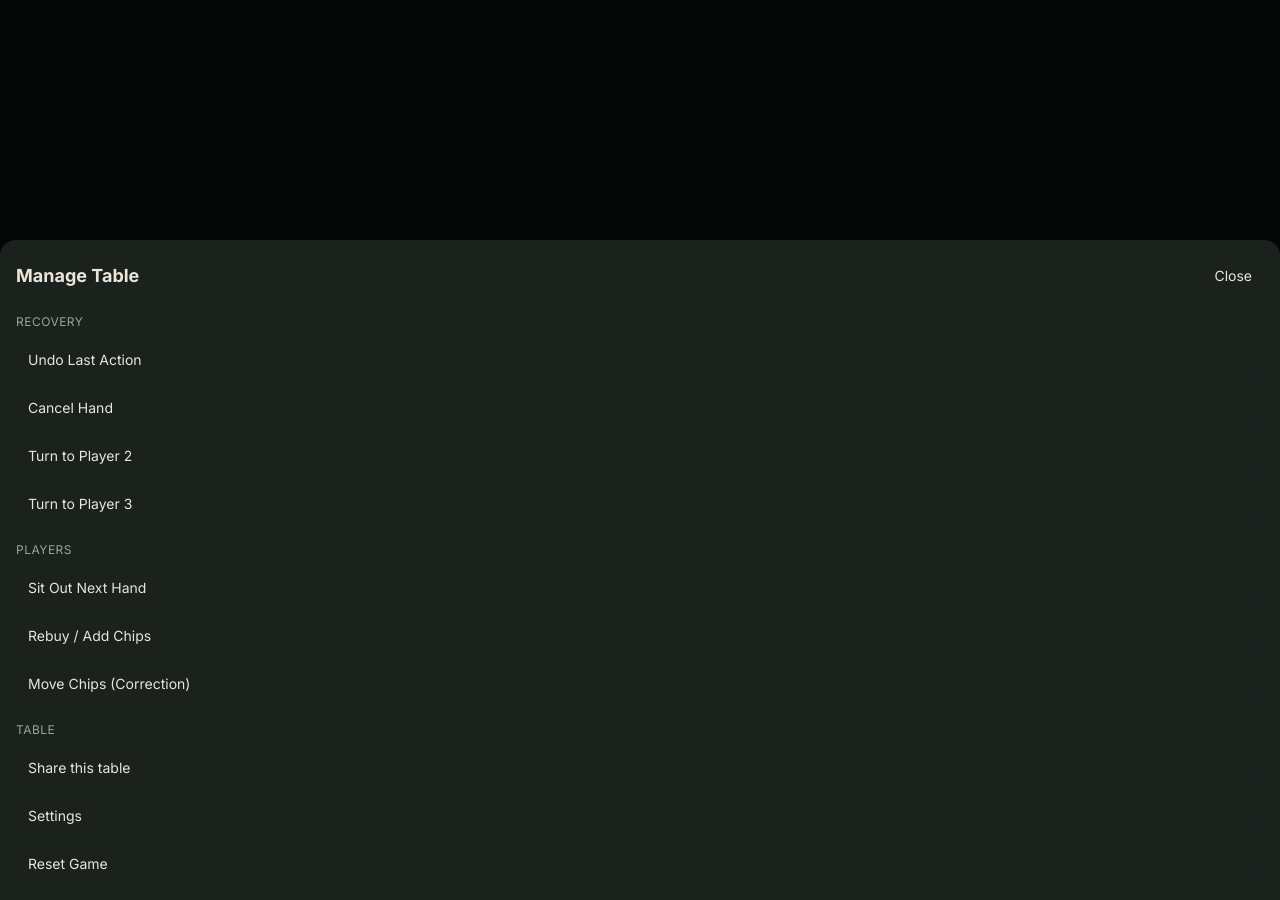
undo › explains a non-undoable transaction instead of offering confirm (PR #182 re-review)
Click the button "Undo Last Action".
click(85, 360)  # box [16,340,1264,380]
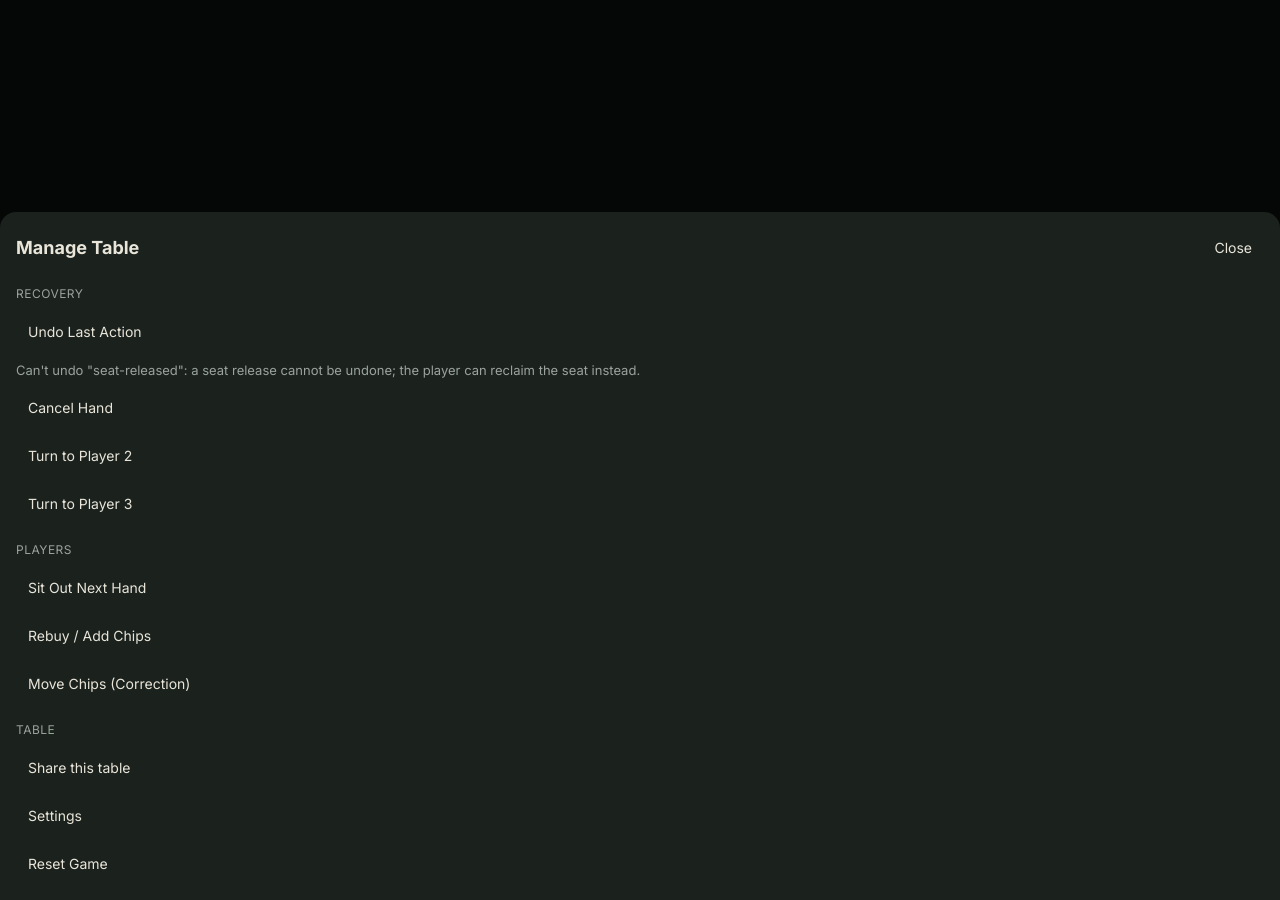
Expected: the text "reclaim" is shown, [16,362,640,378]
